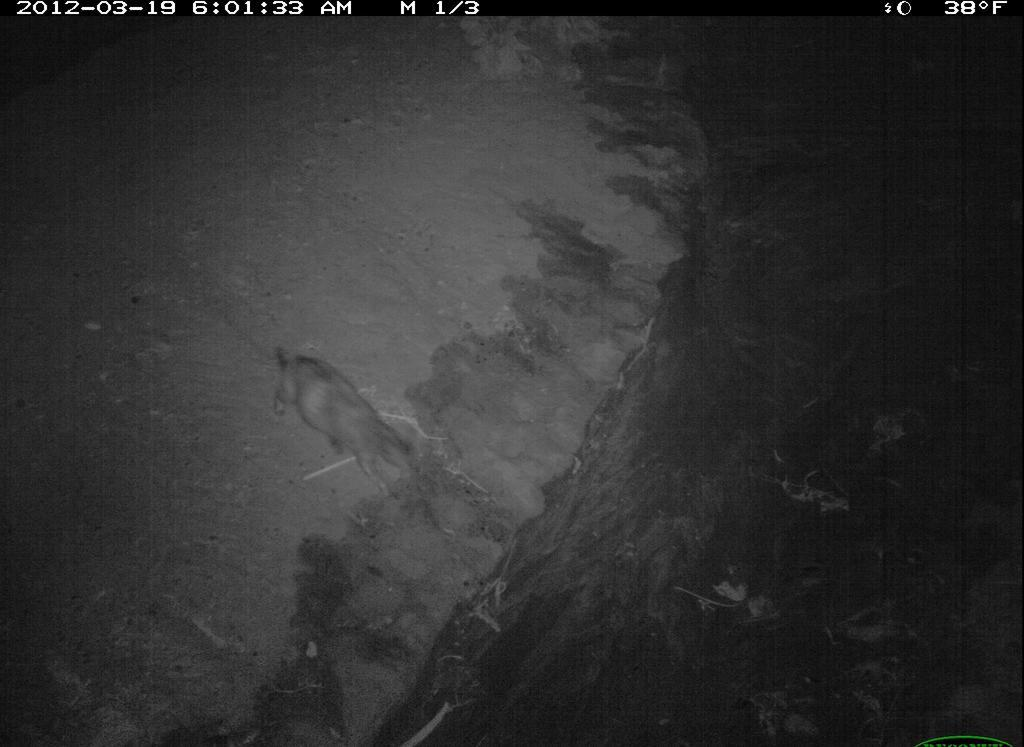cat: (265, 336, 427, 500)
